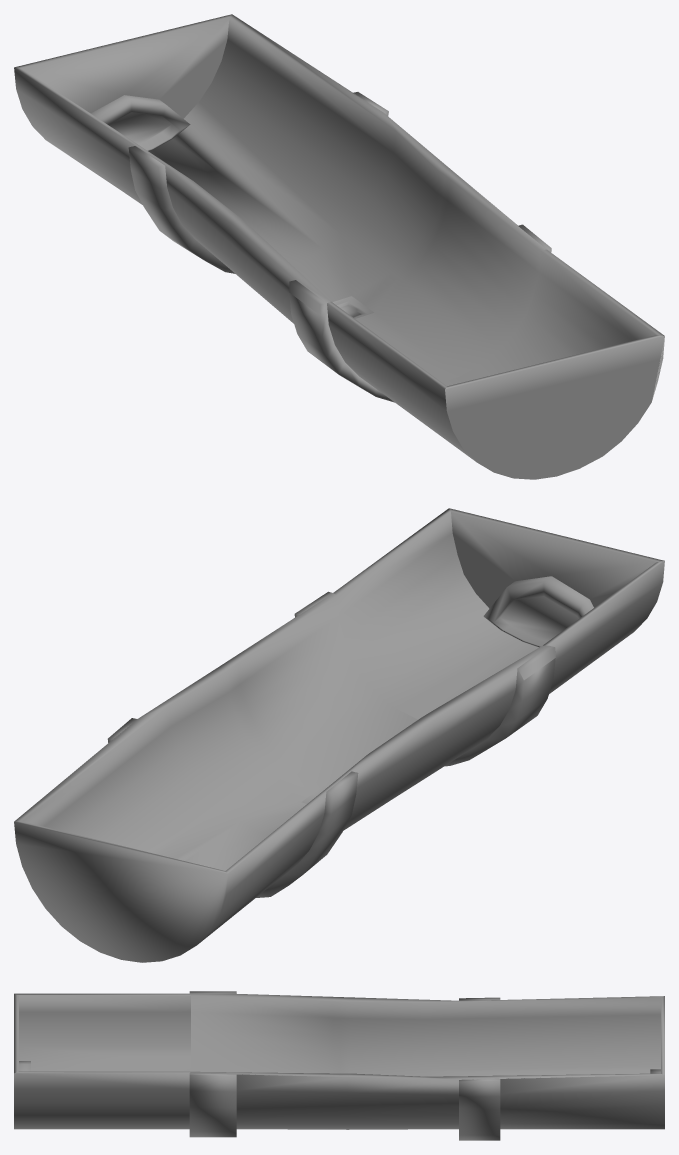
File: Trough.fbx
3 renders of one model, top to bottom at view 1: azimuth 30°, elevation 25°; view 2: azimuth 150°, elevation 25°; view 3: azimuth 270°, elevation 25°, orthographic. The views are drawn at different scales.
Visible parts, largest first — view 1: trough; view 2: trough; view 3: trough.
Boxes of the visible parts, <box> form: trough: <box>14,14,664,479</box>; trough: <box>14,508,664,962</box>; trough: <box>14,991,664,1140</box>.
Size of the model in its own units: 33.35 by 16.54 by 101.
Materials: 1 (1 with a texture image).
